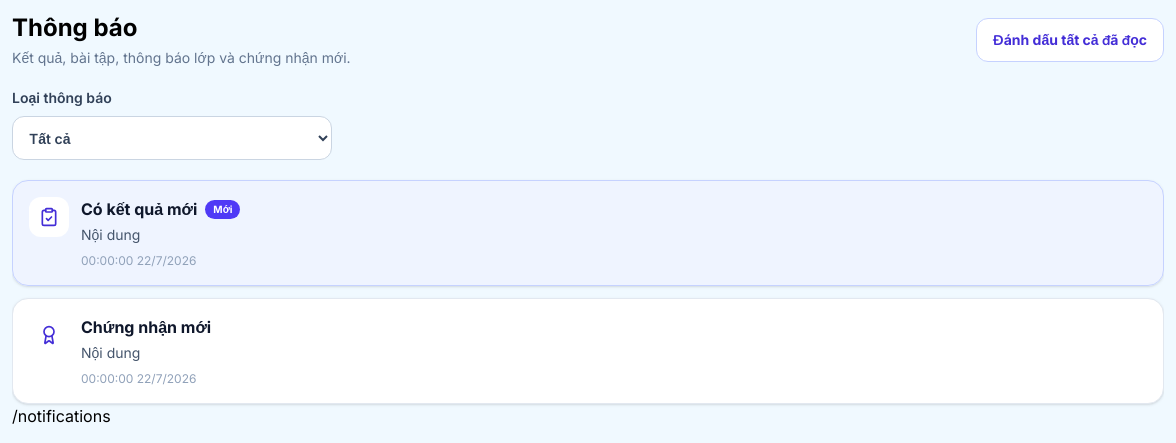
Scenario: ParentNotificationsPage › filters stale revoked items and marks a result read before navigation
The width and height of the screenshot is (1176, 443).
Check: the text "Có kết quả mới" is shown, box [81, 197, 197, 221]
Click the button "Có kết quả mới Mới Nội dung 00:00:00 22/7/2026" at (49, 217), box [12, 180, 1164, 286]
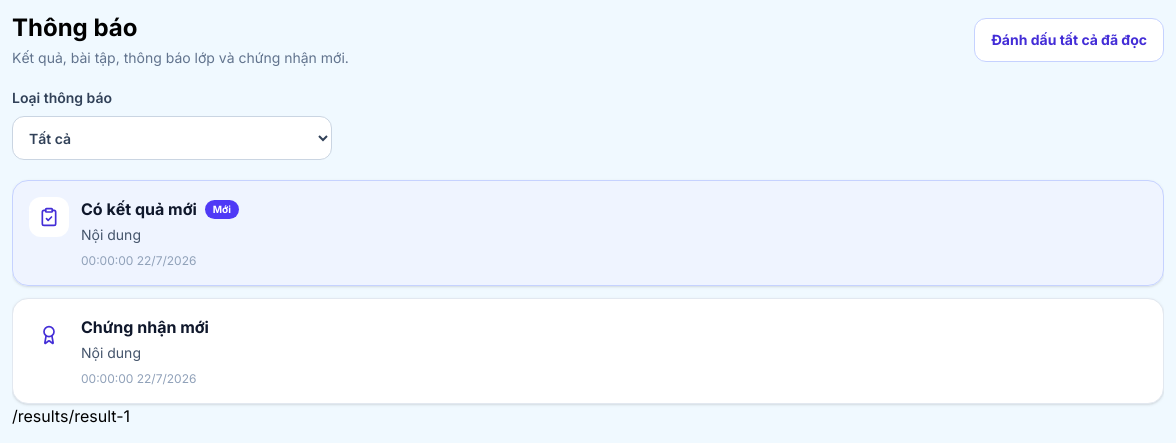
Check: the text with test id "location" reads "/results/result-1", box [12, 406, 130, 426]
